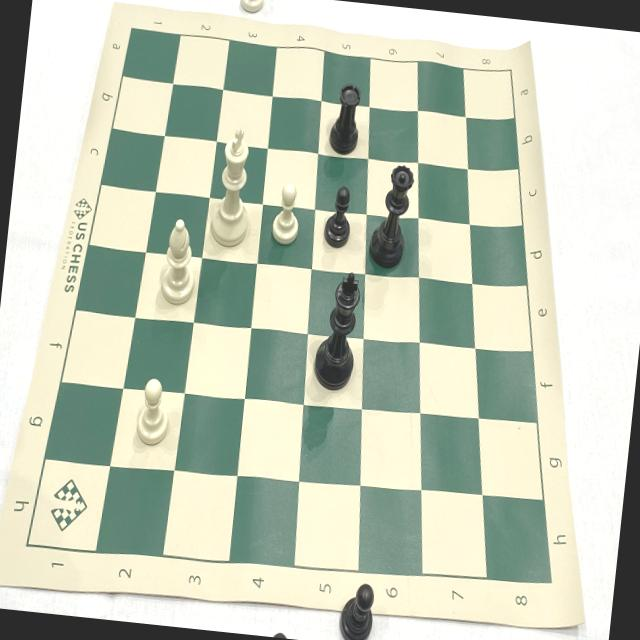black-king: (310, 263, 365, 397)
black-pawn: (320, 184, 357, 252)
black-queen: (365, 154, 415, 272)
black-rook: (322, 76, 366, 161)
white-bishop: (154, 215, 202, 310)
white-king: (204, 122, 260, 252)
white-pawn: (130, 373, 176, 452), (268, 178, 304, 248)
